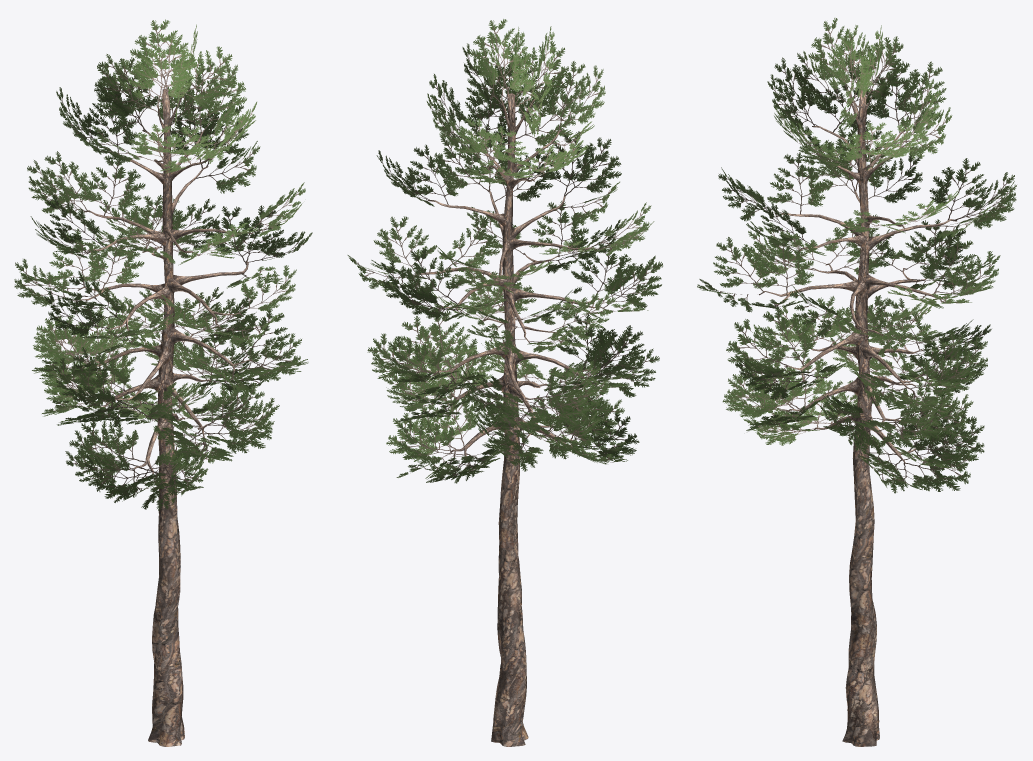
Rendered from tree.glb.
3 renders of one model, left to right at view 1: azimuth 30°, elevation 25°; view 2: azimuth 150°, elevation 25°; view 3: azimuth 270°, elevation 25°, orthographic.
Parts seen in each view (by area): view 1: Tree_1, Tree_0; view 2: Tree_1, Tree_0; view 3: Tree_1, Tree_0.
Part boxes in pixels (bbox=[...]): Tree_1: bbox=[14, 19, 312, 510]; Tree_0: bbox=[77, 88, 253, 746]; Tree_1: bbox=[347, 19, 662, 483]; Tree_0: bbox=[413, 88, 604, 746]; Tree_1: bbox=[697, 18, 1016, 493]; Tree_0: bbox=[759, 88, 956, 746].
Bounding box in the file's own units: 2.18 × 5.32 × 2.17.
2 materials, 2 textured.
